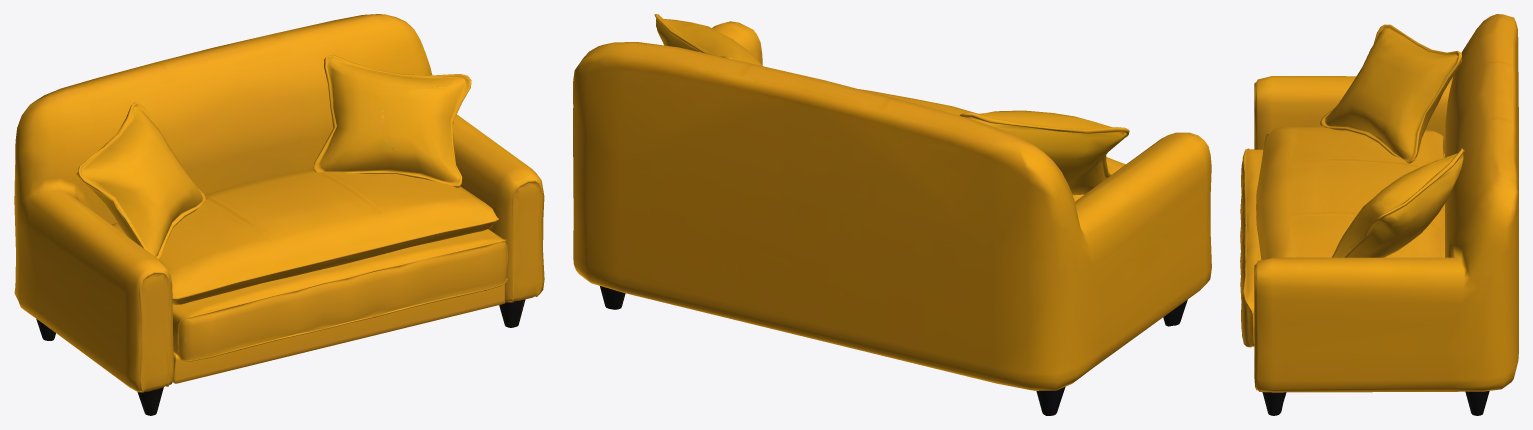
File: couch.glb
3 renders of one model, left to right at view 1: azimuth 30°, elevation 25°; view 2: azimuth 150°, elevation 25°; view 3: azimuth 270°, elevation 25°, orthographic. The views are drawn at different scales.
Bounding box in the file's own units: 0.9561 × 0.5186 × 0.5547.
1 material, 1 textured.
